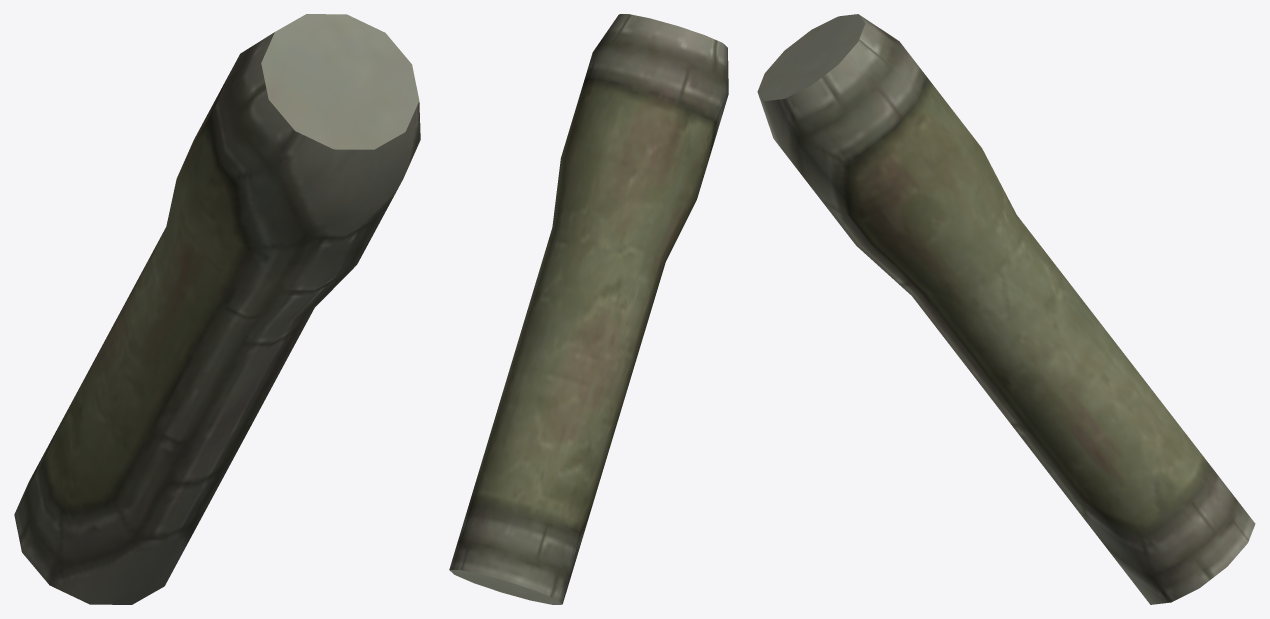
File: lever-03.fbx
3 renders of one model, left to right at view 1: azimuth 30°, elevation 25°; view 2: azimuth 150°, elevation 25°; view 3: azimuth 270°, elevation 25°, orthographic. The views are drawn at different scales.
Parts seen in each view (by area): view 1: Cube.001; view 2: Cube.001; view 3: Cube.001.
Part boxes in pixels (x1=…): Cube.001: x1=14, y1=14, x2=420, y2=604; Cube.001: x1=449, y1=14, x2=728, y2=604; Cube.001: x1=757, y1=14, x2=1255, y2=604.
Size of the model in its own units: 0.1248 by 0.4777 by 0.377.
